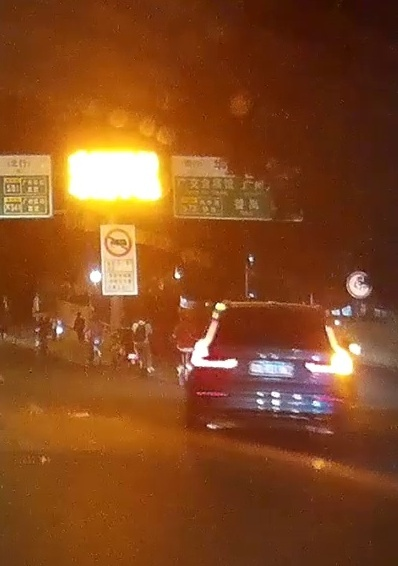L_light: (190, 319, 238, 368)
R_light: (304, 325, 353, 375)
T_light: (265, 309, 286, 312)
night-right: (184, 301, 354, 438)
